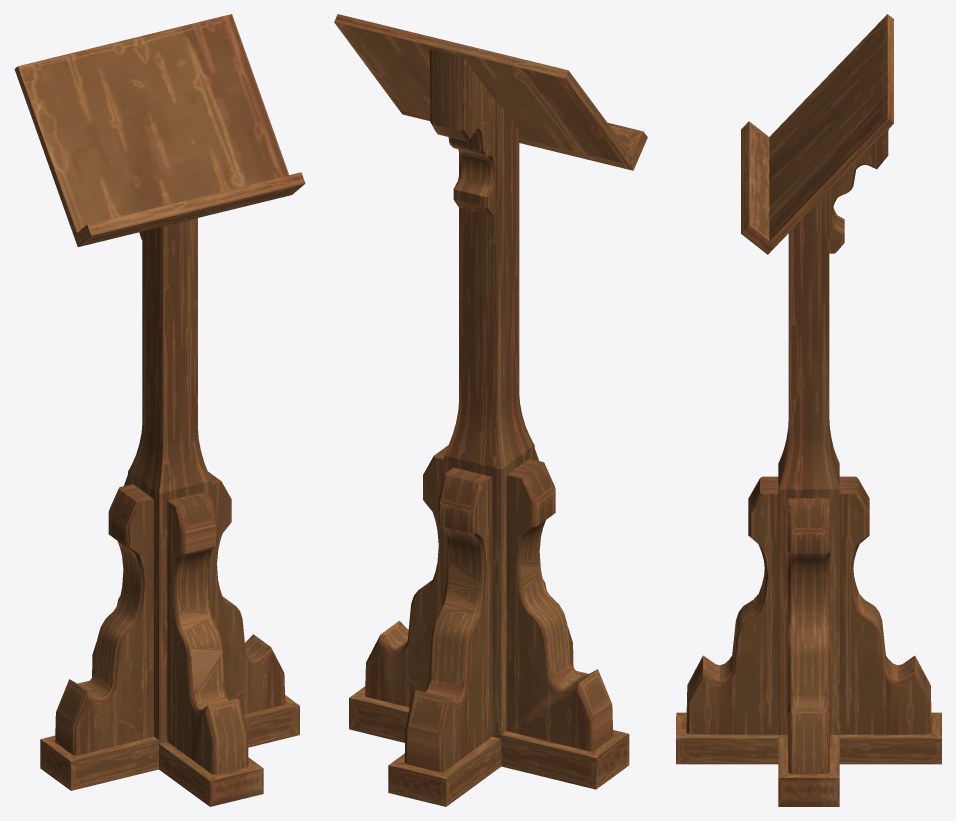
The model's file is book-stand.glb.
3 renders of one model, left to right at view 1: azimuth 30°, elevation 25°; view 2: azimuth 150°, elevation 25°; view 3: azimuth 270°, elevation 25°, orthographic. The views are drawn at different scales.
Parts seen in each view (by area): view 1: BookStand; view 2: BookStand; view 3: BookStand.
Part boxes in pixels (<box>): BookStand: <box>14,14,305,806</box>; BookStand: <box>334,14,647,806</box>; BookStand: <box>676,14,941,806</box>.
Bounding box in the file's own units: 0.5071 × 1.45 × 0.5112.
Materials: 1 (1 with a texture image).
